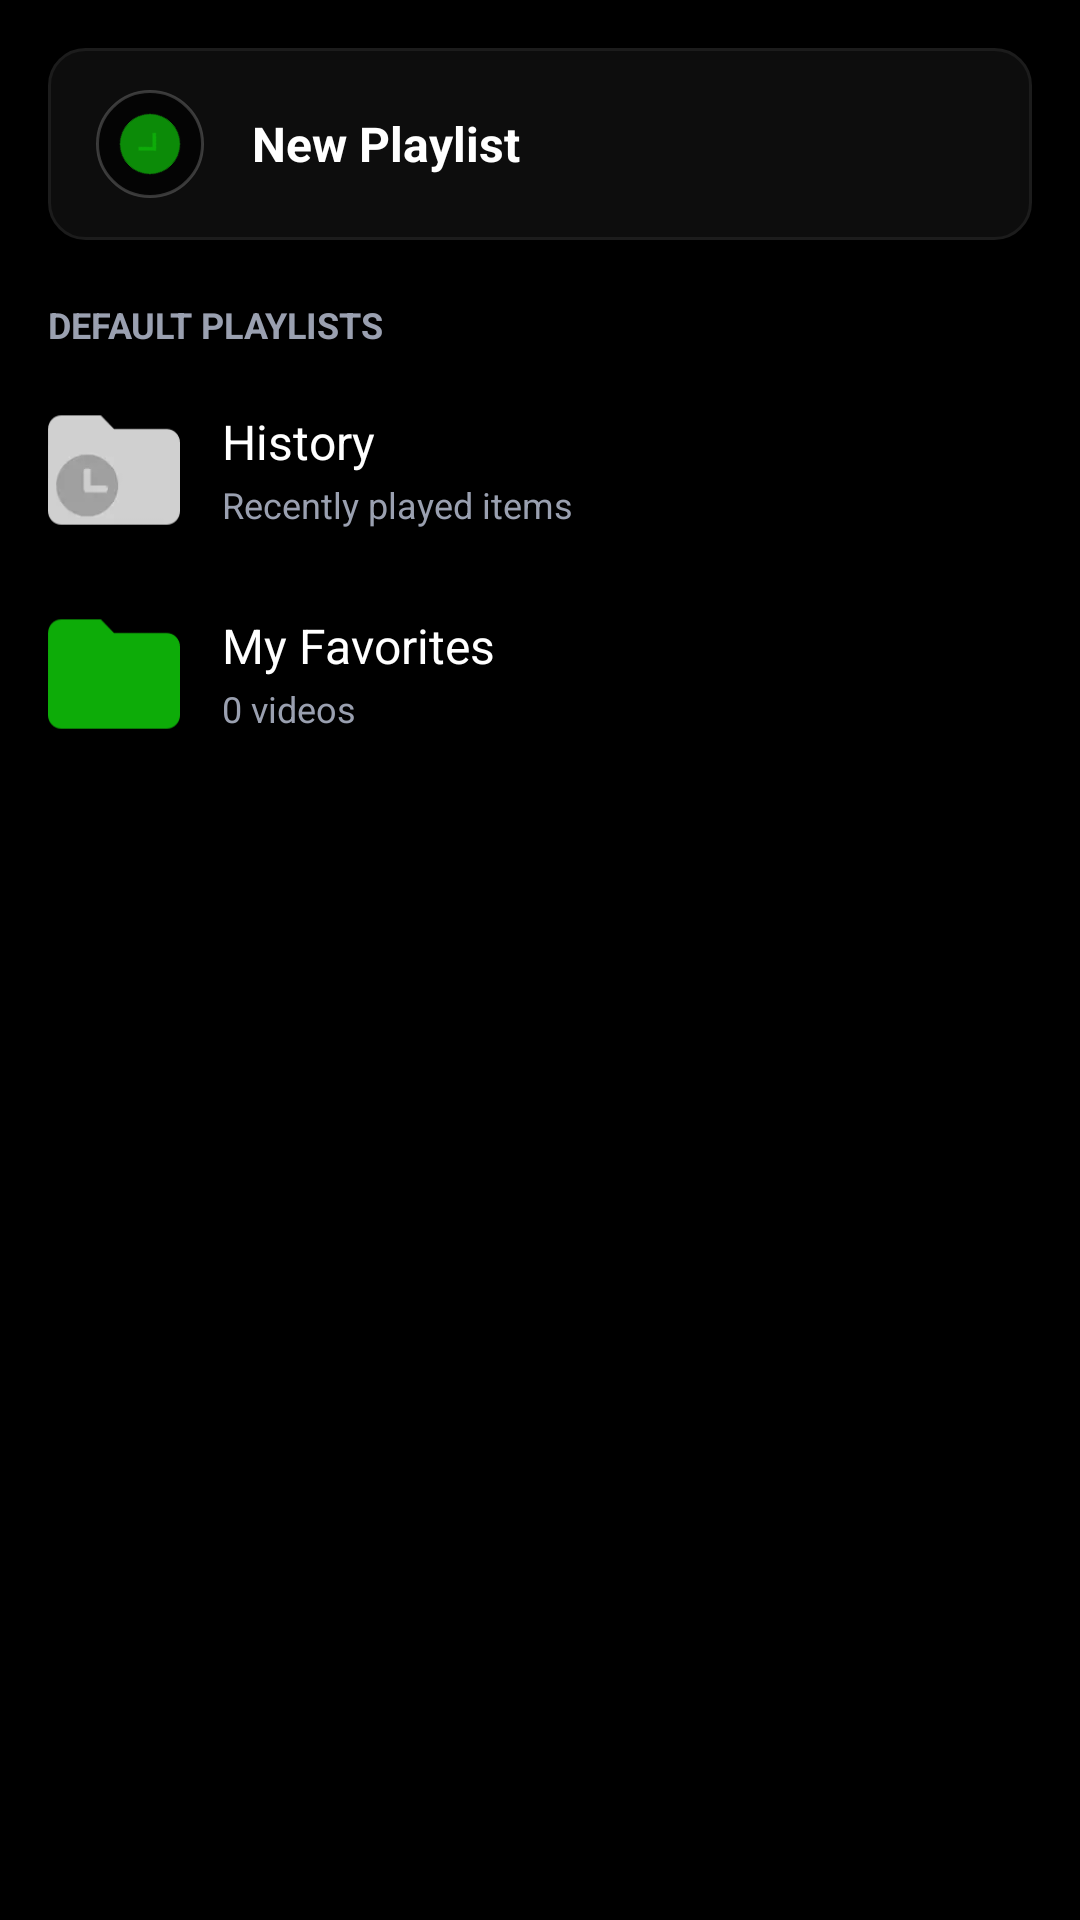

Point at icon controls on the screen. Image size 1080 × 1920, points as [x,y].
folder: [114,674]
folder recent: [114,470]
